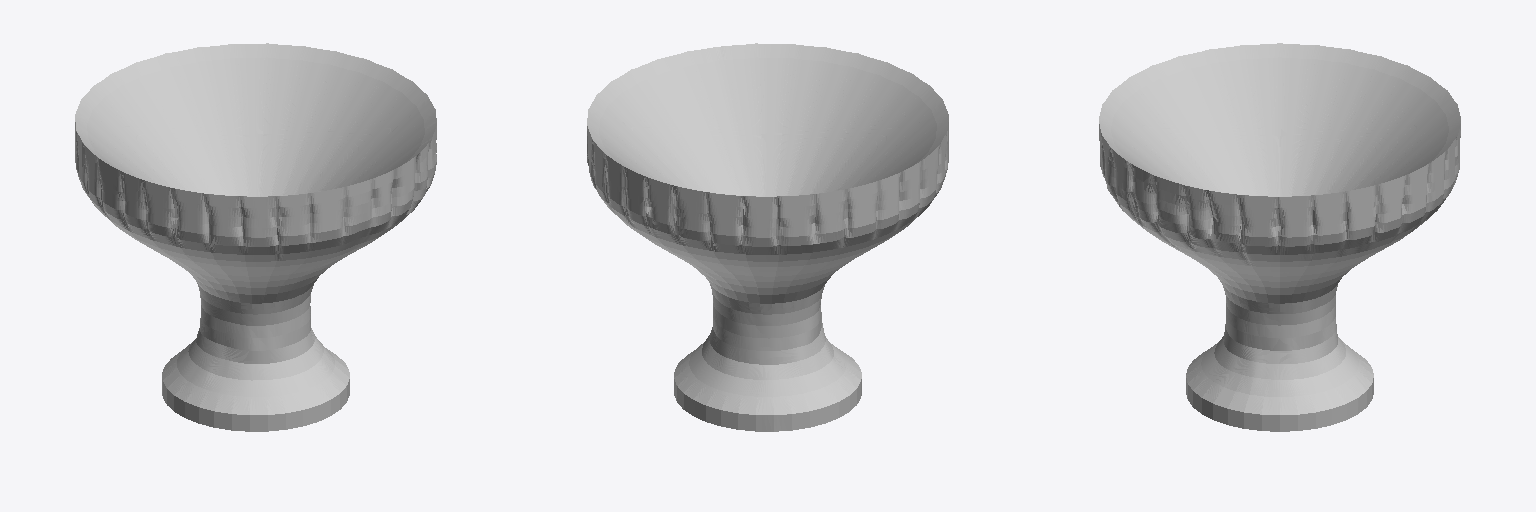
The model's file is inc.obj.
The picture shows the model from 3 angles: view 1: azimuth 30°, elevation 25°; view 2: azimuth 150°, elevation 25°; view 3: azimuth 270°, elevation 25°; orthographic projection.
Visible parts, largest first — view 1: Cylinder; view 2: Cylinder; view 3: Cylinder.
Boxes of the visible parts, <box> form: Cylinder: <box>75,43,436,431</box>; Cylinder: <box>587,43,948,431</box>; Cylinder: <box>1099,43,1460,431</box>.
Size of the model in its own units: 2 by 1.66 by 2.